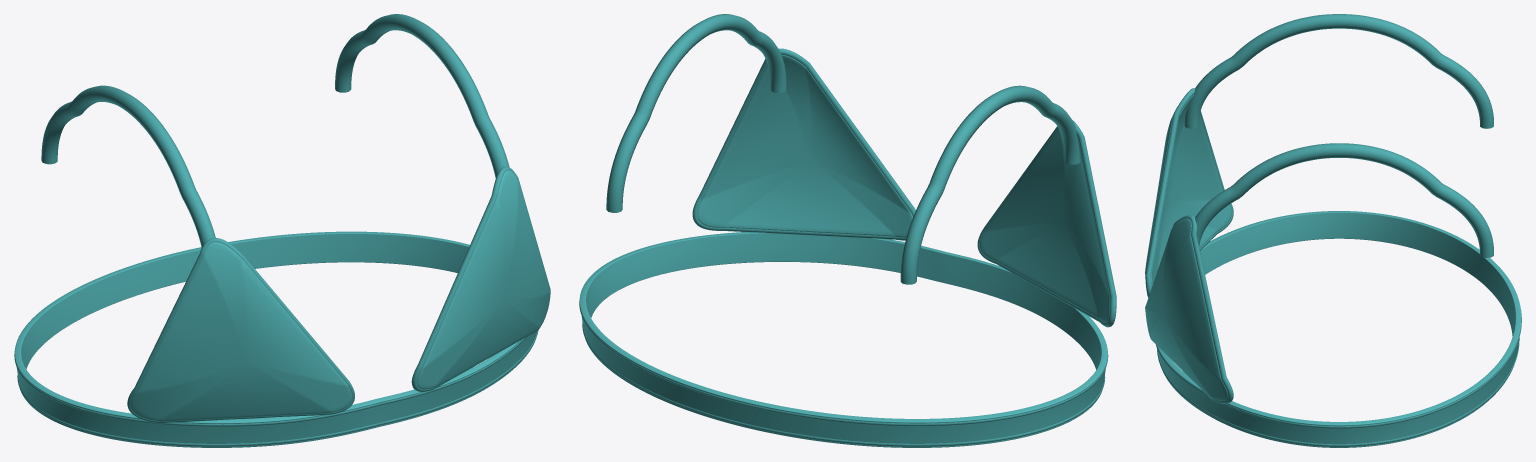
File: Feminine-triangle-top.glb
3 renders of one model, left to right at view 1: azimuth 30°, elevation 25°; view 2: azimuth 150°, elevation 25°; view 3: azimuth 270°, elevation 25°, orthographic. The views are drawn at different scales.
Visible parts, largest first — view 1: Clothing / Triangle underband, Triangle fabric panel -1, Triangle fabric panel 1, Triangle shoulder strap.001 export, Triangle shoulder strap export, Triangle bound edge export, Triangle bound edge.001 export, Triangle underband stitched edge export, Triangle underband stitched edge.001 export; view 2: Clothing / Triangle underband, Triangle fabric panel 1, Triangle fabric panel -1, Triangle shoulder strap.001 export, Triangle shoulder strap export, Triangle bound edge.001 export, Triangle bound edge export, Triangle underband stitched edge export, Triangle underband stitched edge.001 export; view 3: Clothing / Triangle underband, Triangle fabric panel 1, Triangle shoulder strap export, Triangle fabric panel -1, Triangle shoulder strap.001 export, Triangle bound edge export, Triangle bound edge.001 export, Triangle underband stitched edge export, Triangle underband stitched edge.001 export.
Part boxes in pixels (left/top/right/bottom): Clothing / Triangle underband: left=14, top=231, right=537, bottom=447; Triangle fabric panel -1: left=130, top=242, right=352, bottom=421; Triangle fabric panel 1: left=417, top=170, right=550, bottom=389; Triangle shoulder strap.001 export: left=335, top=14, right=509, bottom=178; Triangle shoulder strap export: left=41, top=85, right=215, bottom=247; Triangle bound edge export: left=127, top=238, right=354, bottom=423; Triangle bound edge.001 export: left=411, top=167, right=550, bottom=391; Triangle underband stitched edge export: left=17, top=330, right=538, bottom=446; Triangle underband stitched edge.001 export: left=14, top=337, right=526, bottom=426; Clothing / Triangle underband: left=579, top=232, right=1107, bottom=447; Triangle fabric panel 1: left=697, top=54, right=912, bottom=237; Triangle fabric panel -1: left=979, top=129, right=1110, bottom=322; Triangle shoulder strap.001 export: left=606, top=14, right=786, bottom=212; Triangle shoulder strap export: left=900, top=85, right=1080, bottom=284; Triangle bound edge.001 export: left=692, top=48, right=915, bottom=240; Triangle bound edge export: left=977, top=120, right=1116, bottom=327; Triangle underband stitched edge export: left=582, top=323, right=1105, bottom=446; Triangle underband stitched edge.001 export: left=579, top=300, right=1108, bottom=425; Clothing / Triangle underband: left=1157, top=211, right=1521, bottom=447; Triangle fabric panel 1: left=1145, top=218, right=1228, bottom=401; Triangle shoulder strap export: left=1184, top=14, right=1493, bottom=128; Triangle fabric panel -1: left=1145, top=94, right=1231, bottom=287; Triangle shoulder strap.001 export: left=1195, top=143, right=1493, bottom=257; Triangle bound edge export: left=1145, top=88, right=1233, bottom=297; Triangle bound edge.001 export: left=1151, top=215, right=1233, bottom=403; Triangle underband stitched edge export: left=1157, top=338, right=1519, bottom=446; Triangle underband stitched edge.001 export: left=1156, top=310, right=1521, bottom=428.
Bounding box in the file's own units: 0.6873 × 0.3931 × 0.5103.
